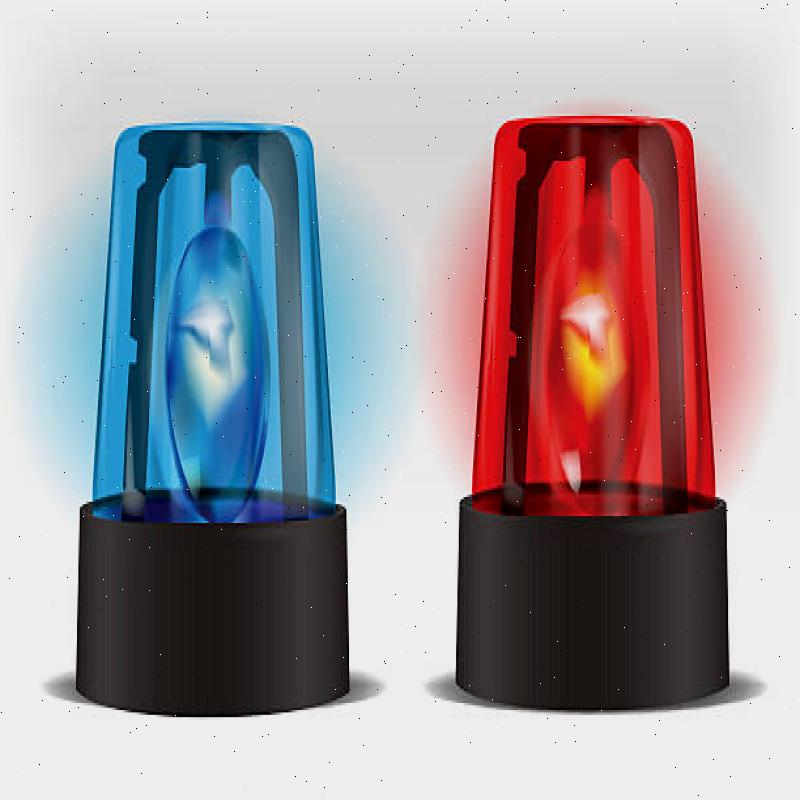AmbulanceSiren: (436, 44, 745, 739), (53, 73, 363, 745)
